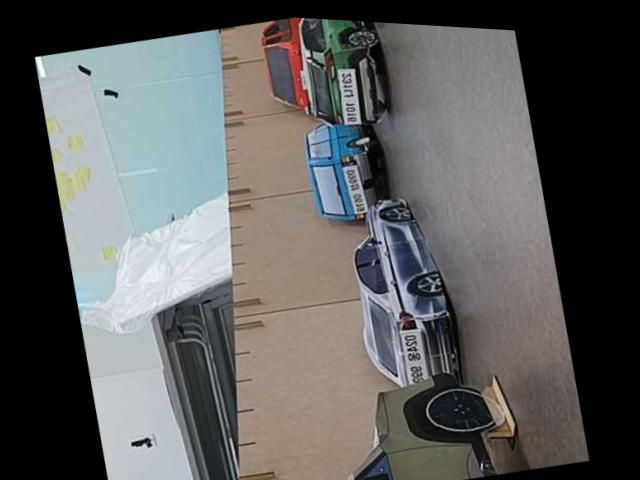car: (331, 189, 467, 400), (321, 356, 523, 480), (288, 17, 393, 139), (295, 106, 391, 230), (250, 15, 329, 123)
id: (395, 329, 430, 393), (333, 67, 364, 126), (337, 162, 370, 216)
